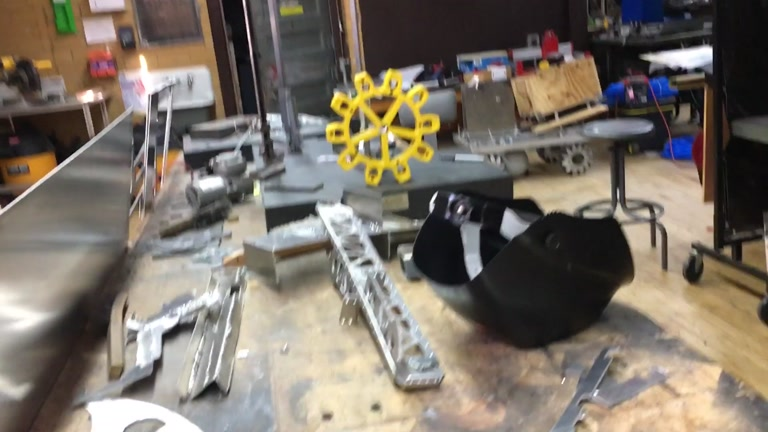gear: (324, 68, 442, 186)
